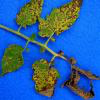Tomato Septoria leaf spot: (38, 0, 87, 40), (31, 59, 63, 99), (0, 41, 26, 79), (15, 0, 44, 28)
